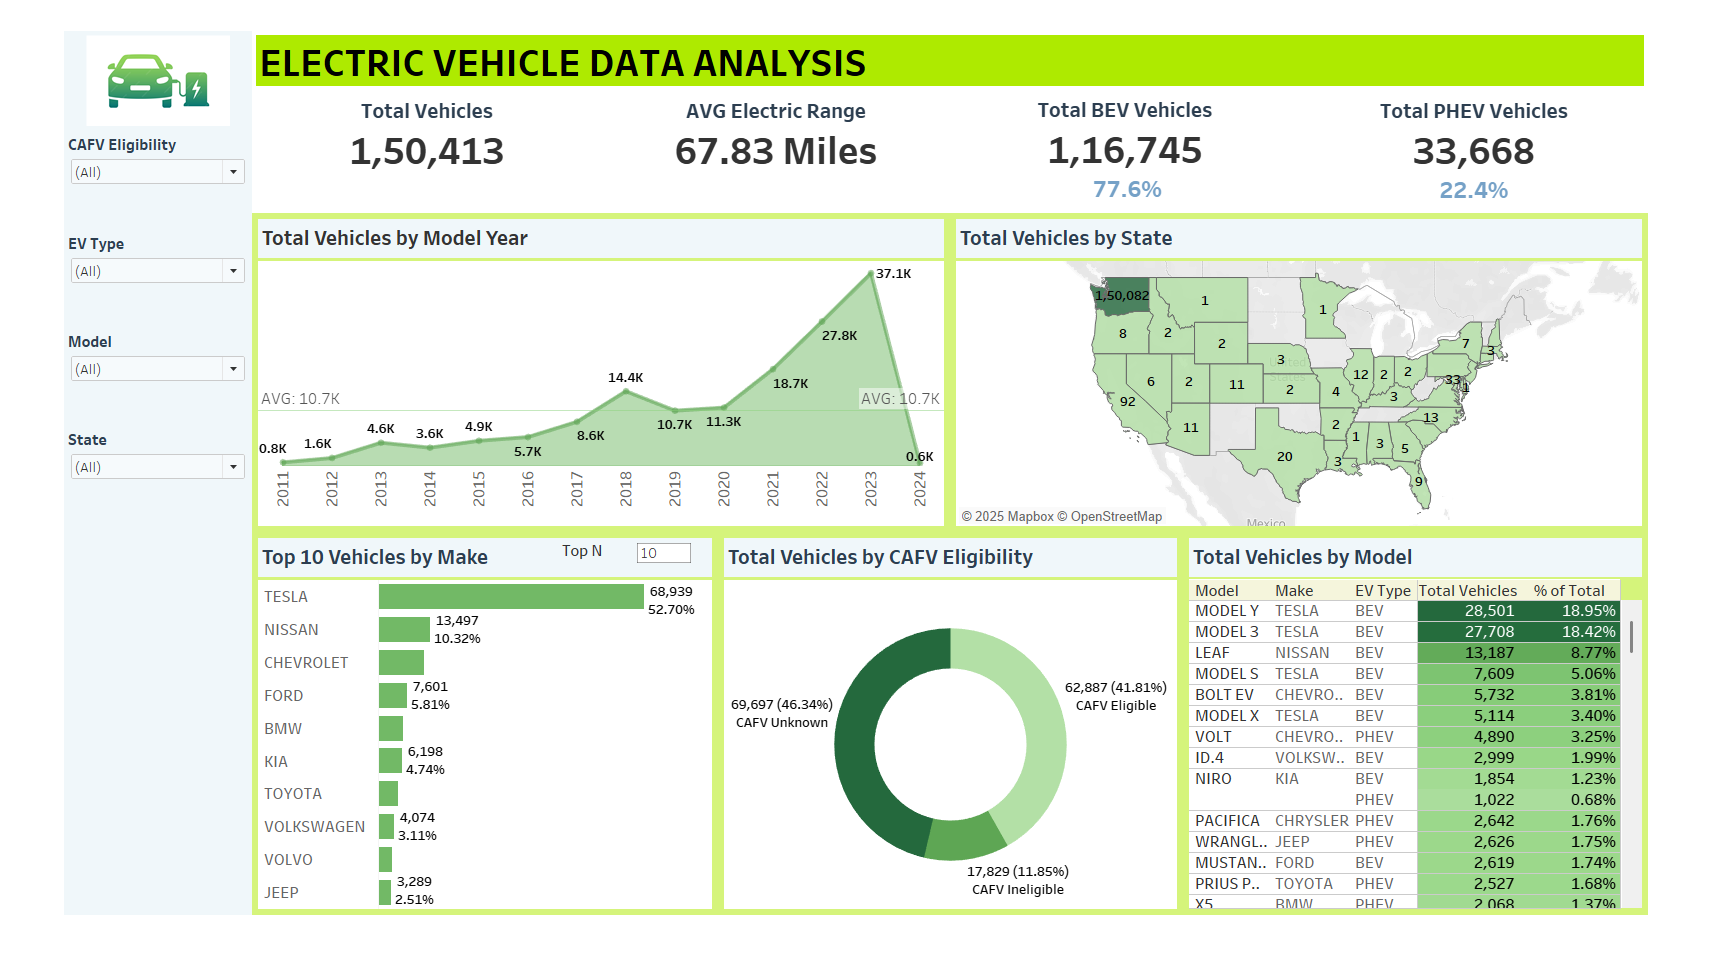

This screenshot's page, from the dashboard's own definition file:
{"tool":"tableau","page":{"name":"Dashboard 1","canvas":[1600,900],"ordinal":0},"visuals":[{"type":"image","param":"C:/Users/vivid/Downloads/EV.jpg","box":[8,8,188,99]},{"type":"title","box":[196,8,1396,59]},{"type":"worksheet","title":"Total Vehicles","mark":"Automatic","box":[196,67,349,123]},{"type":"worksheet","title":"AVG Electric Range","mark":"Automatic","box":[545,67,349,123]},{"type":"worksheet","title":"Total BEV Vehicles","mark":"Automatic","box":[894,67,349,123]},{"type":"worksheet","title":"Total PHEV Vehicles","mark":"Automatic","box":[1243,67,349,123]},{"type":"filter","title":"Total Vehicles by Model Year","param":"[federated.1s2xtw80iu417f1b72kwu1ooy4wg].[none:Clean Alternative Fuel Vehicle (C","box":[8,107,188,99]},{"type":"worksheet","title":"Total Vehicles by Model Year","mark":"Area","rows":["Calculation_399131571109294080","Calculation_399131571109294080"],"cols":["Model Year"],"box":[196,190,698,319]},{"type":"worksheet","title":"Total Vehicles by State","mark":"Multipolygon","box":[894,190,698,319]},{"type":"filter","title":"Top Vehicles by Make","param":"[federated.1s2xtw80iu417f1b72kwu1ooy4wg].[none:Electric Vehicle Type:nk]","box":[8,206,188,98]},{"type":"filter","title":"Total Vehicles by Model Year","param":"[federated.1s2xtw80iu417f1b72kwu1ooy4wg].[none:Model:nk]","box":[8,304,188,98]},{"type":"filter","title":"Total Vehicles by Model Year","param":"[federated.1s2xtw80iu417f1b72kwu1ooy4wg].[none:State:nk]","box":[8,402,188,98]},{"type":"blank","box":[8,500,188,98]},{"type":"worksheet","title":"Top Vehicles by Make","mark":"Automatic","rows":["Make"],"cols":["Calculation_399131571109294080"],"box":[196,509,466,383]},{"type":"worksheet","title":"Total Vehicles by CAFV Eligibility","mark":"Pie","rows":["Calculation_1340946843535831041","Calculation_1340946843535831041"],"box":[662,509,465,383]},{"type":"worksheet","title":"Total Vehicles by Model","mark":"Square","rows":["Model","Make","Electric Vehicle Type"],"box":[1127,509,465,383]},{"type":"parameter","param":"[Parameters].[Parameter 1]","box":[506,517,132,34]},{"type":"blank","box":[8,598,188,98]},{"type":"blank","box":[8,696,188,98]},{"type":"blank","box":[8,794,188,98]}]}

Visuals, with their boxes in screenshot pixels (x1, y1, x2, y2), scaled from the page's 1600x900 canvas onto the 1709x953 screenshot:
image: (left=9, top=8, right=209, bottom=113)
title: (left=209, top=8, right=1700, bottom=71)
"Total Vehicles" worksheet: (left=209, top=71, right=582, bottom=201)
"AVG Electric Range" worksheet: (left=582, top=71, right=955, bottom=201)
"Total BEV Vehicles" worksheet: (left=955, top=71, right=1328, bottom=201)
"Total PHEV Vehicles" worksheet: (left=1328, top=71, right=1700, bottom=201)
"Total Vehicles by Model Year" filter: (left=9, top=113, right=209, bottom=218)
"Total Vehicles by Model Year" worksheet (Area marks): (left=209, top=201, right=955, bottom=539)
"Total Vehicles by State" worksheet (Multipolygon marks): (left=955, top=201, right=1700, bottom=539)
"Top Vehicles by Make" filter: (left=9, top=218, right=209, bottom=322)
"Total Vehicles by Model Year" filter: (left=9, top=322, right=209, bottom=426)
"Total Vehicles by Model Year" filter: (left=9, top=426, right=209, bottom=529)
blank: (left=9, top=529, right=209, bottom=633)
"Top Vehicles by Make" worksheet: (left=209, top=539, right=707, bottom=945)
"Total Vehicles by CAFV Eligibility" worksheet (Pie marks): (left=707, top=539, right=1204, bottom=945)
"Total Vehicles by Model" worksheet (Square marks): (left=1204, top=539, right=1700, bottom=945)
parameter: (left=540, top=547, right=681, bottom=583)
blank: (left=9, top=633, right=209, bottom=737)
blank: (left=9, top=737, right=209, bottom=841)
blank: (left=9, top=841, right=209, bottom=945)
